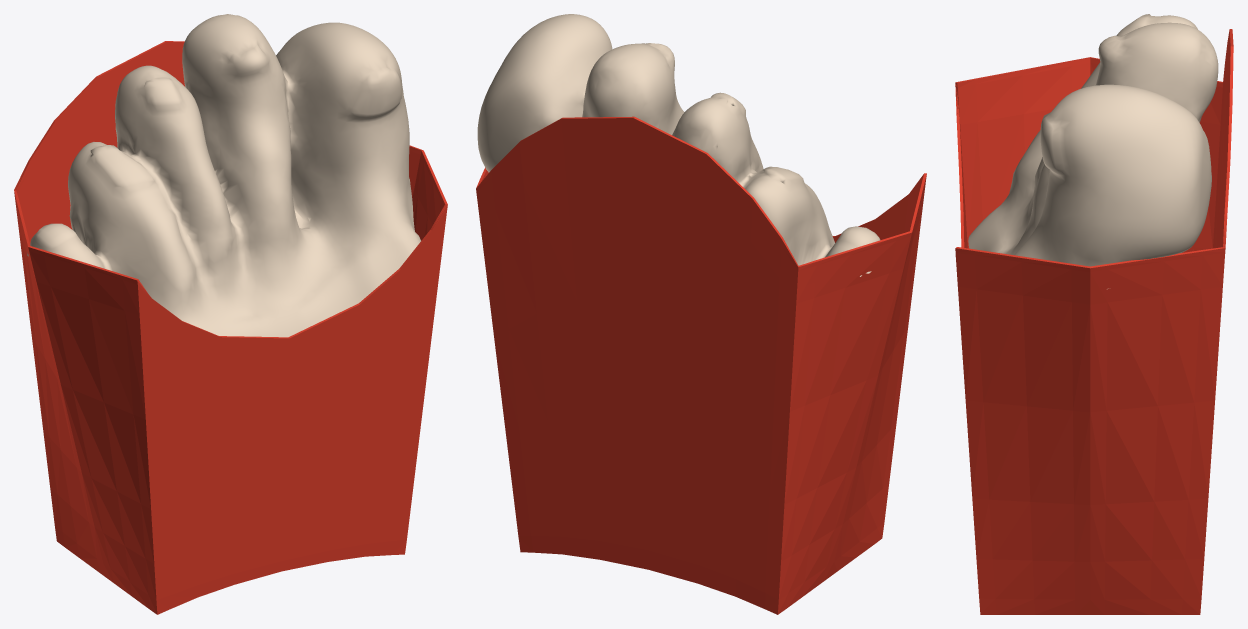
The model's file is Foot.glb.
3 views of the same model, side by side, from view 1: azimuth 30°, elevation 25°; view 2: azimuth 150°, elevation 25°; view 3: azimuth 270°, elevation 25° (orthographic). The views are drawn at different scales.
Visible parts, largest first — view 1: FriesPaperBox, Retopo_fractured_13_17_26; view 2: FriesPaperBox, Retopo_fractured_13_17_26; view 3: FriesPaperBox, Retopo_fractured_13_17_26.
Part boxes in pixels (x1=…): FriesPaperBox: x1=14, y1=41, x2=447, y2=614; Retopo_fractured_13_17_26: x1=27, y1=14, x2=420, y2=337; FriesPaperBox: x1=476, y1=116, x2=926, y2=614; Retopo_fractured_13_17_26: x1=477, y1=14, x2=880, y2=276; FriesPaperBox: x1=955, y1=29, x2=1233, y2=614; Retopo_fractured_13_17_26: x1=968, y1=14, x2=1218, y2=289.
Size of the model in its own units: 3.96 by 4.72 by 2.21.
